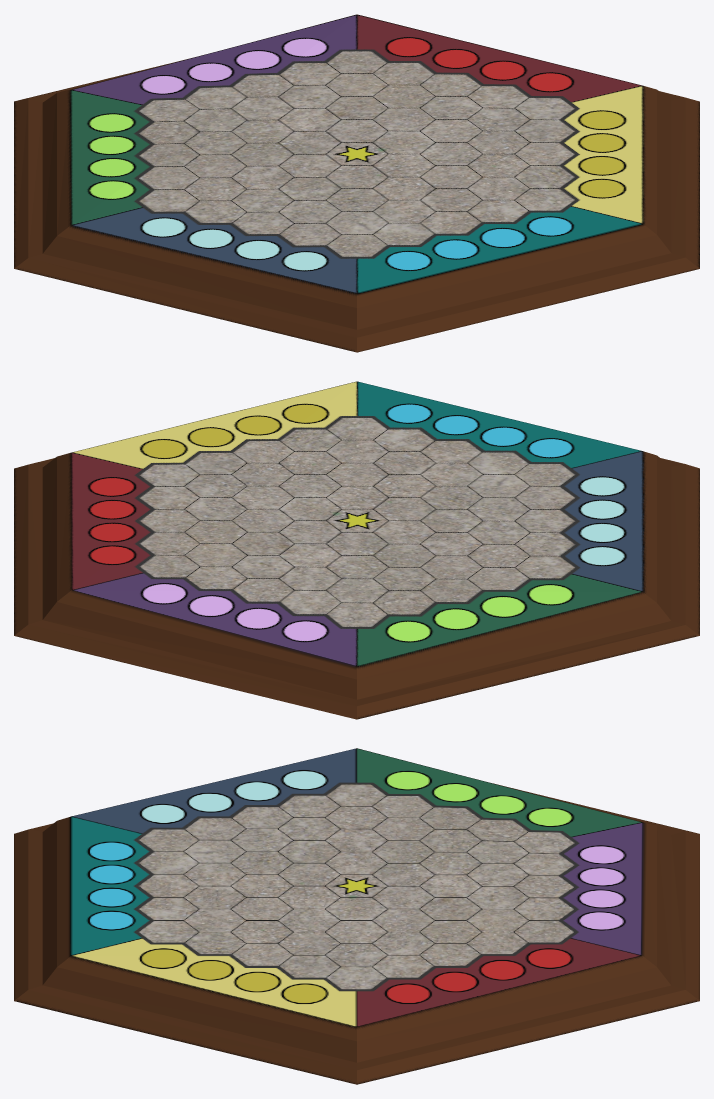
The model's file is Board.obj.
3 renders of one model, top to bottom at view 1: azimuth 30°, elevation 25°; view 2: azimuth 150°, elevation 25°; view 3: azimuth 270°, elevation 25°, orthographic.
Parts seen in each view (by area): view 1: Cube_Cube.001; view 2: Cube_Cube.001; view 3: Cube_Cube.001.
Part boxes in pixels (box(x1,y1,x2,y2)): Cube_Cube.001: box(14, 14, 699, 352); Cube_Cube.001: box(14, 381, 699, 719); Cube_Cube.001: box(14, 748, 699, 1084).
Size of the model in its own units: 2.4 by 0.105 by 2.08.
Materials: 1 (1 with a texture image).
